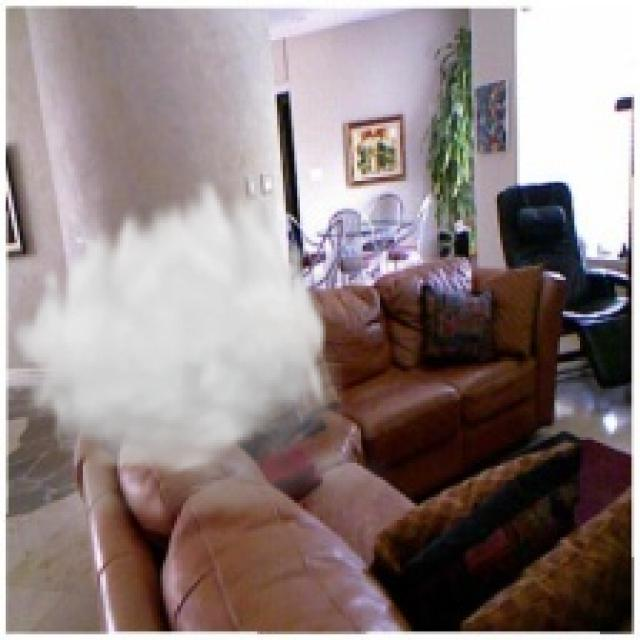smoke: (9, 168, 397, 548)
